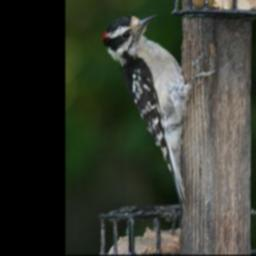Woodpecker: (102, 14, 215, 210)
